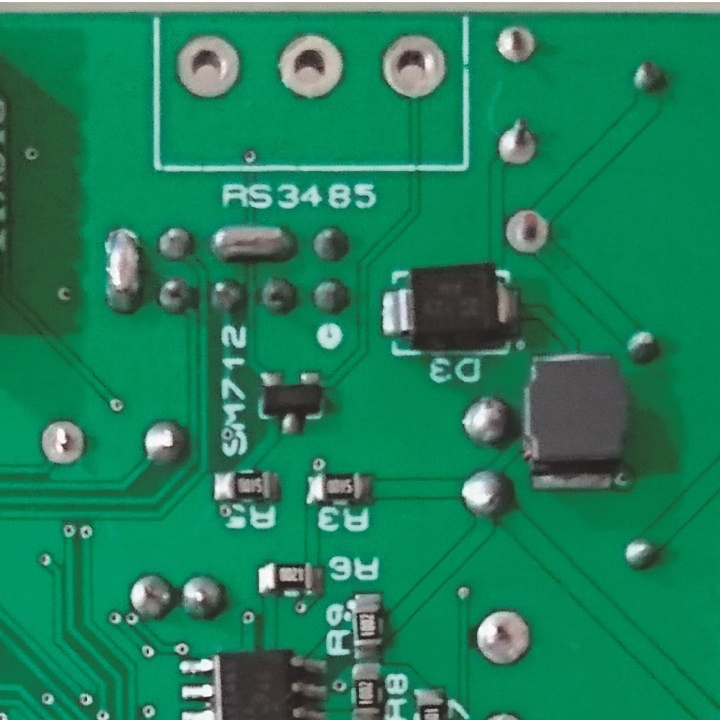F: (274, 34, 347, 103), (173, 31, 242, 101), (381, 32, 449, 101), (476, 608, 539, 669), (38, 418, 90, 472), (501, 205, 553, 258), (495, 115, 540, 168), (493, 23, 539, 69)
P: (100, 228, 149, 315), (204, 221, 300, 264)
